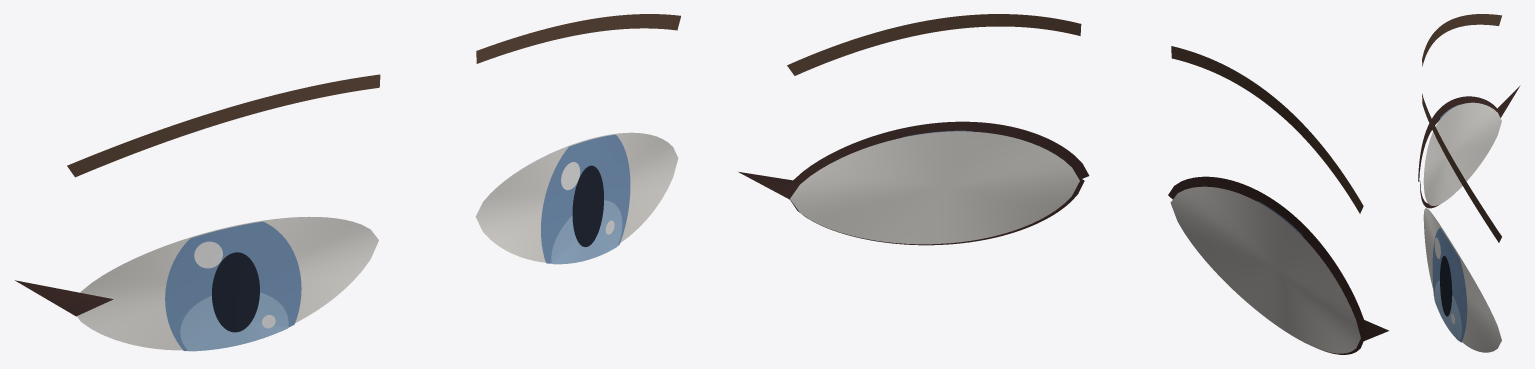
3 renders of one model, left to right at view 1: azimuth 30°, elevation 25°; view 2: azimuth 150°, elevation 25°; view 3: azimuth 270°, elevation 25°, orthographic. The views are drawn at different scales.
Parts seen in each view (by area): view 1: Eye_White_-1, Eye_White_1, Eye_Iris_-1, Eye_Iris_1, Eyebrow_-1, Eye_Iris_Light_-1, Eye_Pupil_-1, Eyebrow_1, Eye_Iris_Light_1, Eye_Pupil_1, Eye_LashWing_-1, Eye_Glint_-1_0; view 2: Eye_White_1, Eye_White_-1, Eyebrow_1, Eye_UpperLid_1, Eyebrow_-1, Eye_UpperLid_-1, Eye_LowerLid_1, Eye_LashWing_1; view 3: Eye_White_-1, Eye_White_1, Eye_Iris_1, Eyebrow_1, Eyebrow_-1, Eye_UpperLid_-1, Eye_Iris_Light_1, Eye_Pupil_1, Eye_LashWing_-1, Eye_Glint_1_0.
Boxes of the visible parts, <box> form: Eye_White_-1: <box>77,216,378,350</box>; Eye_White_1: <box>475,132,678,262</box>; Eye_Iris_-1: <box>165,221,301,351</box>; Eye_Iris_1: <box>541,134,630,263</box>; Eyebrow_-1: <box>67,74,380,177</box>; Eye_Iris_Light_-1: <box>180,292,288,351</box>; Eye_Pupil_-1: <box>212,252,259,332</box>; Eyebrow_1: <box>476,14,680,63</box>; Eye_Iris_Light_1: <box>551,200,622,264</box>; Eye_Pupil_1: <box>572,165,603,247</box>; Eye_LashWing_-1: <box>15,280,113,316</box>; Eye_Glint_-1_0: <box>194,241,222,268</box>; Eye_White_1: <box>790,131,1079,244</box>; Eye_White_-1: <box>1170,186,1360,353</box>; Eyebrow_1: <box>787,14,1081,75</box>; Eye_UpperLid_1: <box>784,121,1089,195</box>; Eyebrow_-1: <box>1171,46,1363,213</box>; Eye_UpperLid_-1: <box>1168,176,1367,335</box>; Eye_LowerLid_1: <box>789,178,1084,245</box>; Eye_LashWing_1: <box>738,172,802,199</box>; Eye_White_-1: <box>1423,102,1501,205</box>; Eye_White_1: <box>1423,208,1501,352</box>; Eye_Iris_1: <box>1432,228,1467,342</box>; Eyebrow_1: <box>1422,93,1501,242</box>; Eyebrow_-1: <box>1422,14,1501,66</box>; Eye_UpperLid_-1: <box>1418,96,1500,181</box>; Eye_Iris_Light_1: <box>1434,280,1461,341</box>; Eye_Pupil_1: <box>1440,255,1452,316</box>; Eye_LashWing_-1: <box>1495,85,1520,117</box>; Eye_Glint_1_0: <box>1434,237,1440,258</box>.
Size of the model in its own units: 0.418 by 0.1487 by 0.0725.
